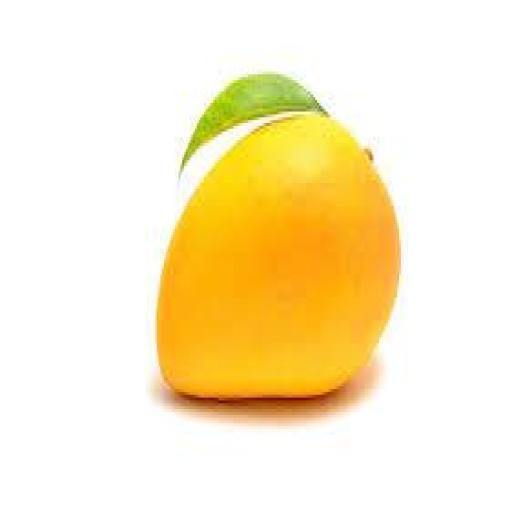mango: (157, 115, 399, 397)
